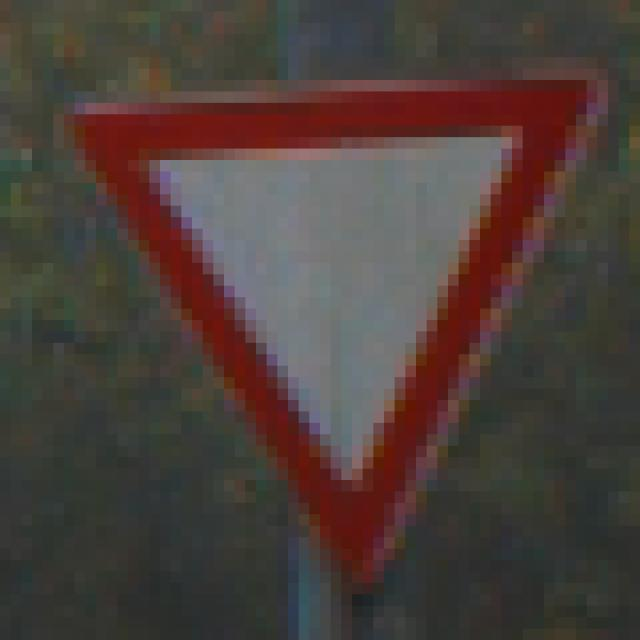Give Way: (65, 58, 588, 573)
